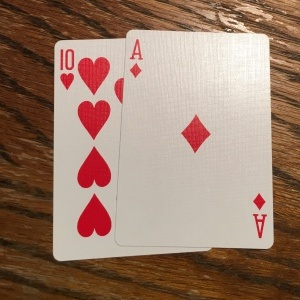card: (115, 30, 277, 247), (54, 39, 130, 261)
